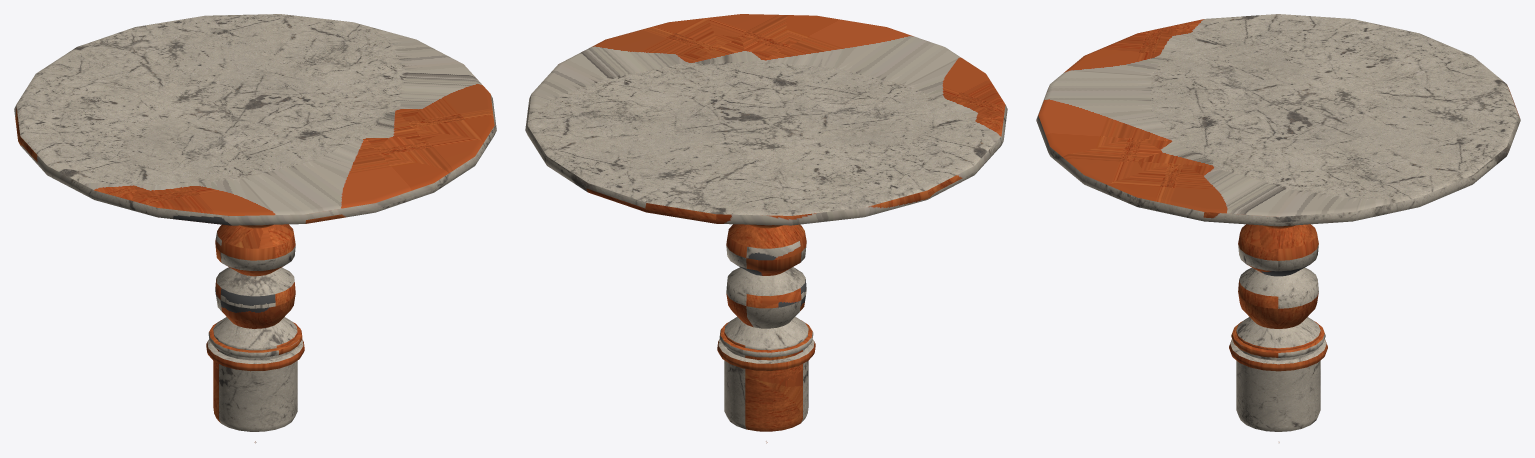
The model's file is Marble_table.fbx.
3 views of the same model, side by side, from view 1: azimuth 30°, elevation 25°; view 2: azimuth 150°, elevation 25°; view 3: azimuth 270°, elevation 25° (orthographic).
Parts seen in each view (by area): view 1: table_flat, table_stand; view 2: table_flat, table_stand; view 3: table_flat, table_stand.
Boxes of the visible parts, x1,y1,x2,y2 form: table_flat: [14, 14, 496, 225]; table_stand: [206, 224, 304, 431]; table_flat: [525, 14, 1007, 225]; table_stand: [717, 224, 815, 431]; table_flat: [1036, 14, 1520, 226]; table_stand: [1229, 224, 1327, 431].
Size of the model in its own units: 0.001 by 0.000753 by 0.001.
Materials: 1 (1 with a texture image).
